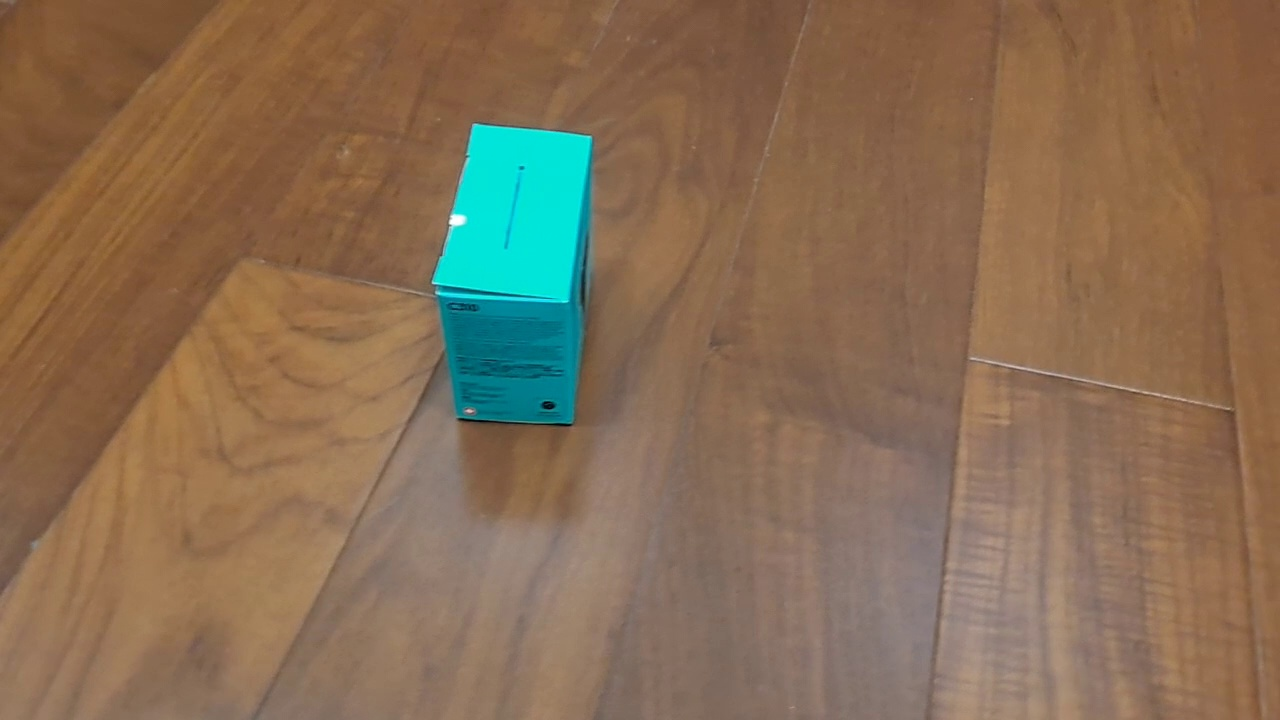webcam: (429, 121, 595, 429)
